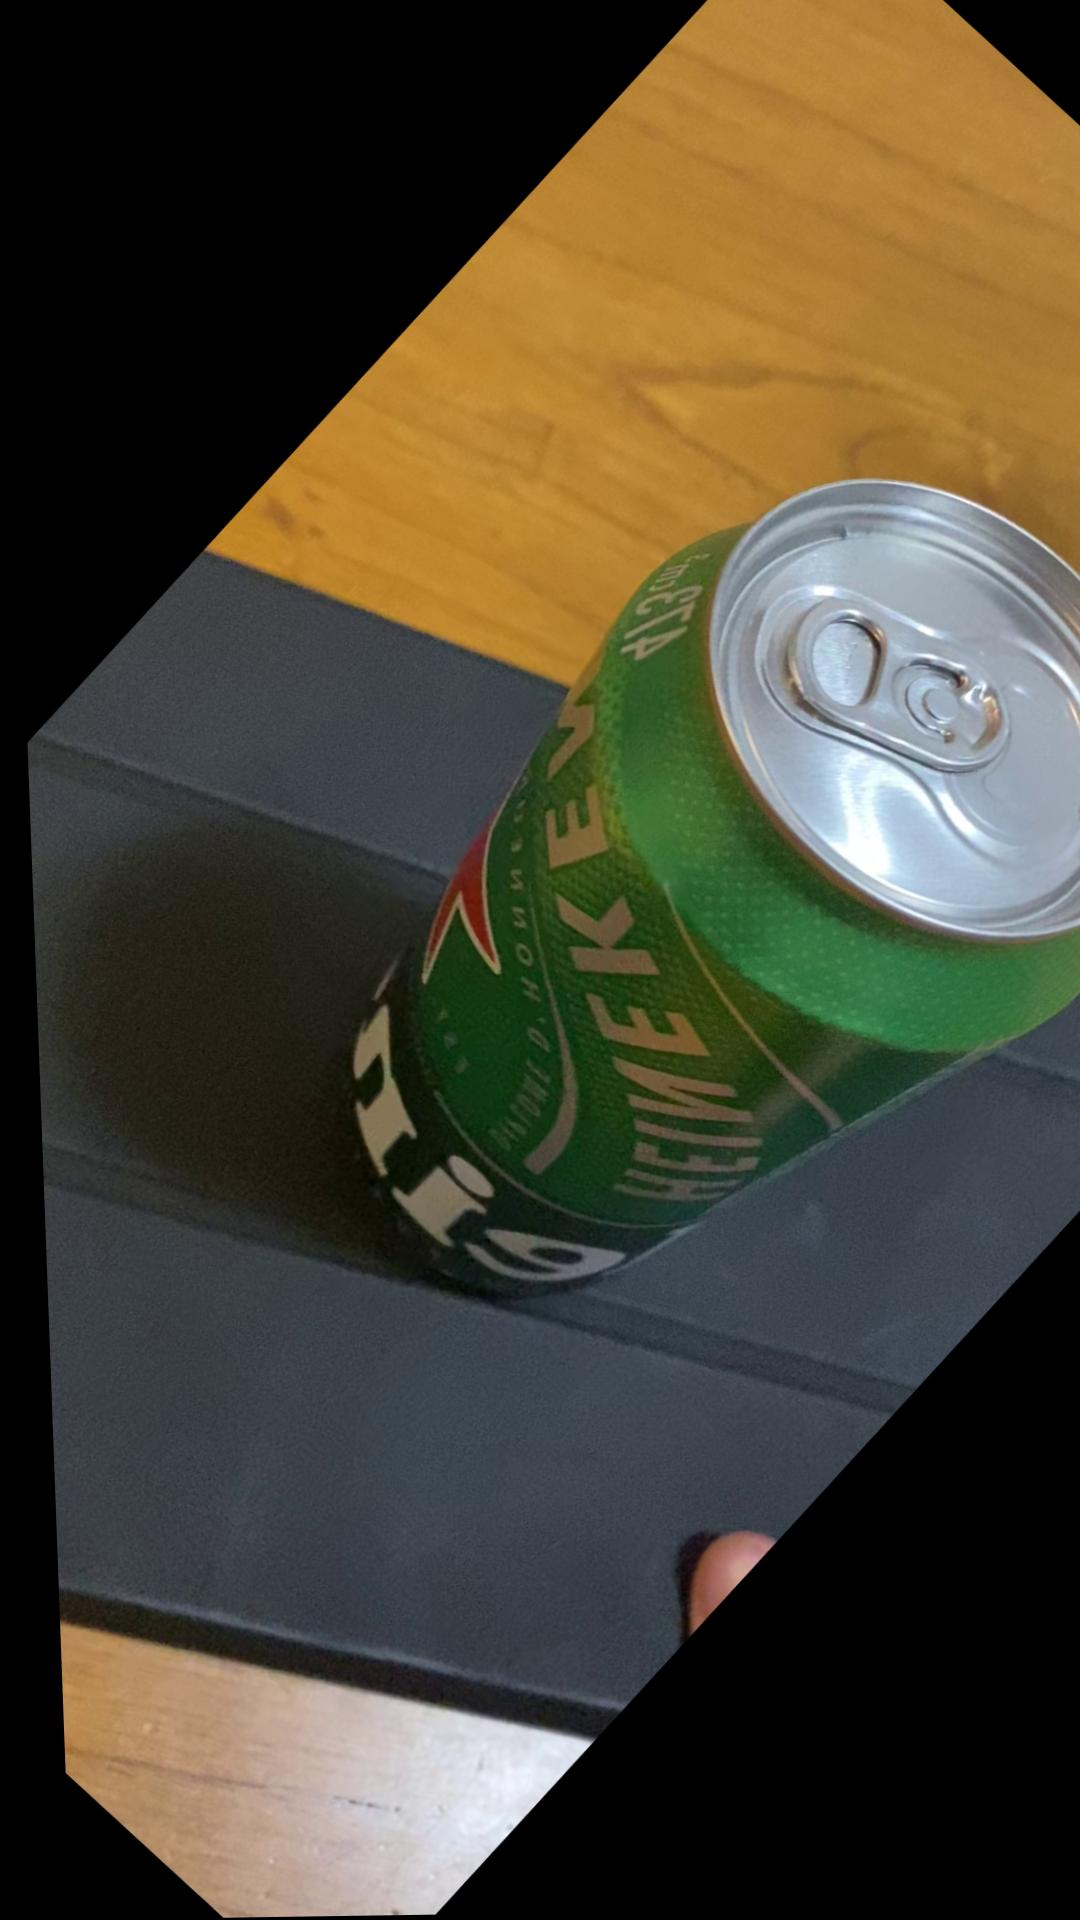metal: (352, 483, 1079, 1294)
